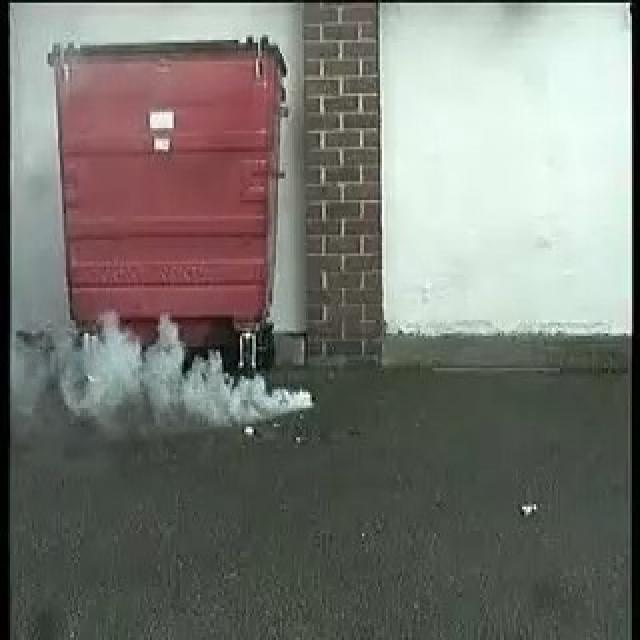smoke: (58, 312, 314, 419)
